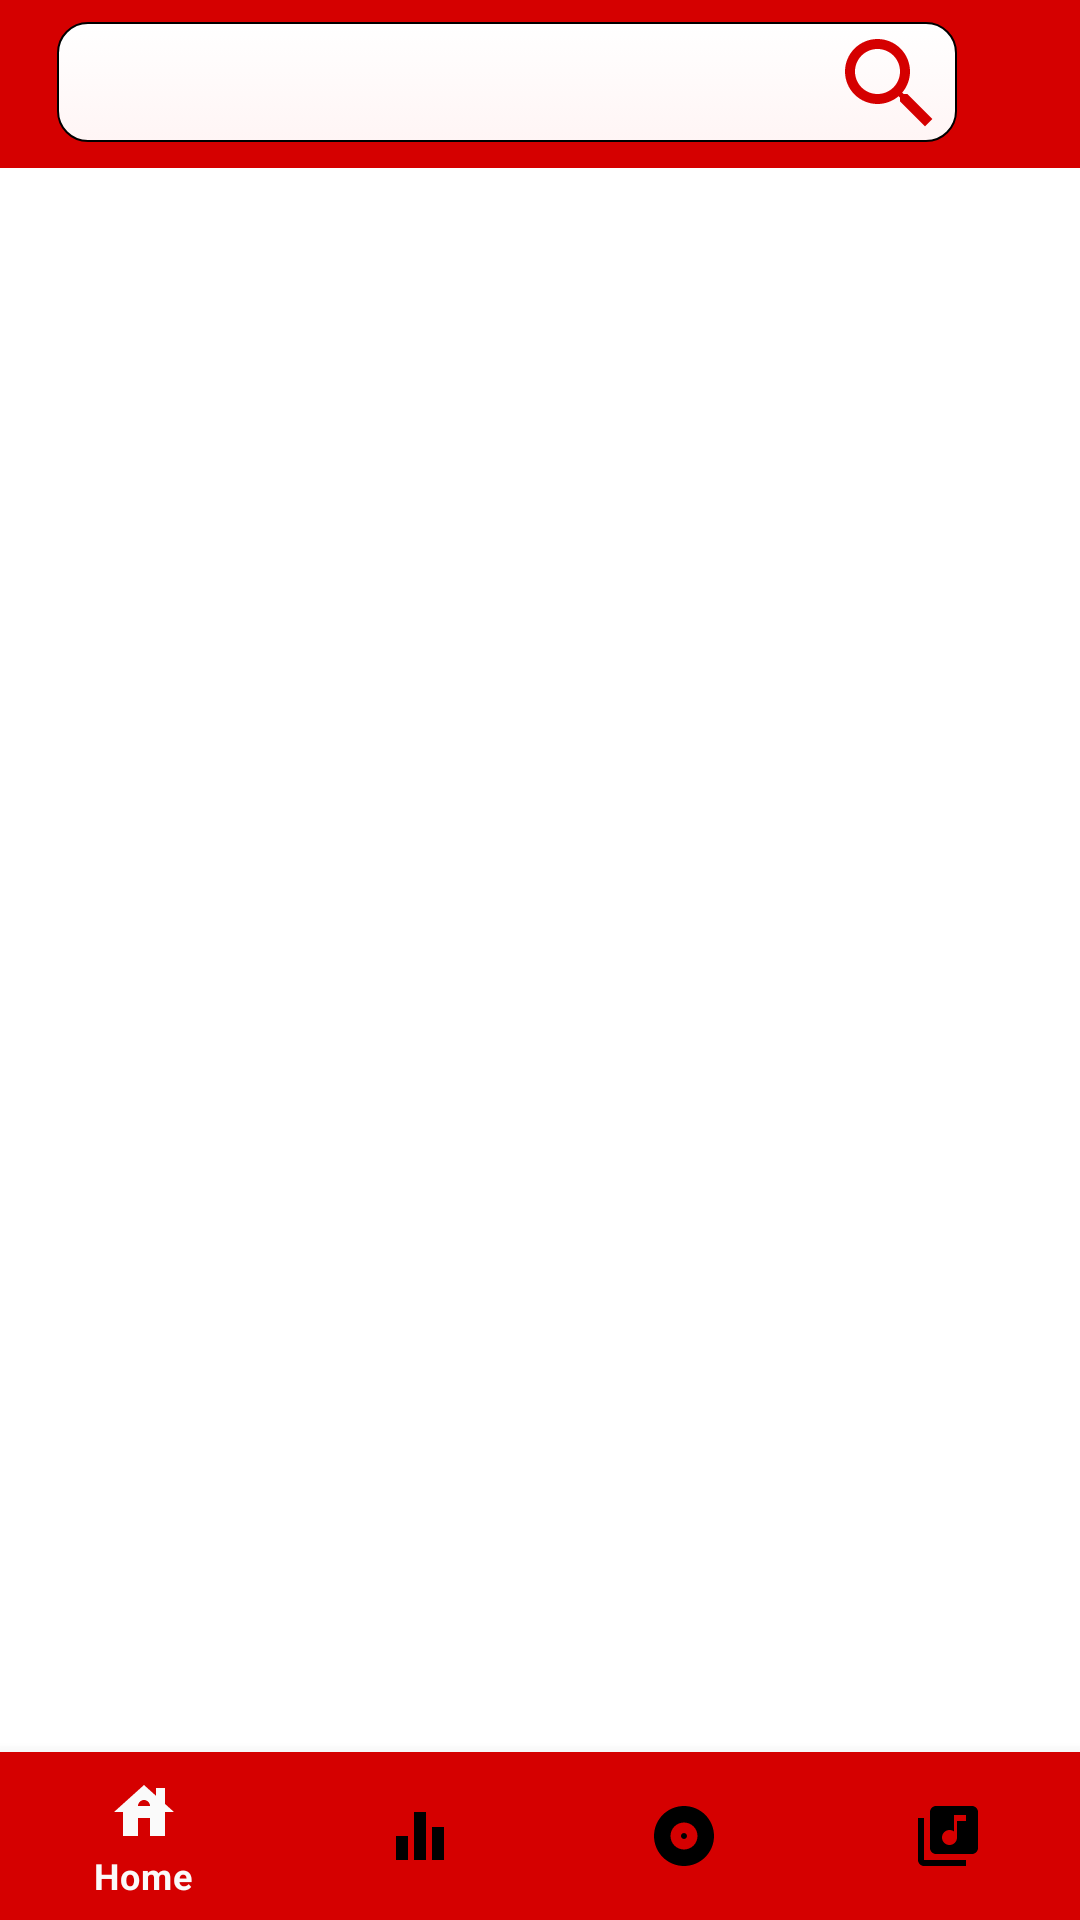

Where to tap for icons on this 1080x1920 app screen, as (x,y):
Search: (889,83)
